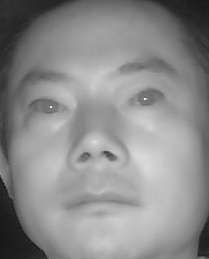eye: (27, 95, 72, 120), (124, 86, 167, 111)
mouth: (63, 180, 144, 224)
